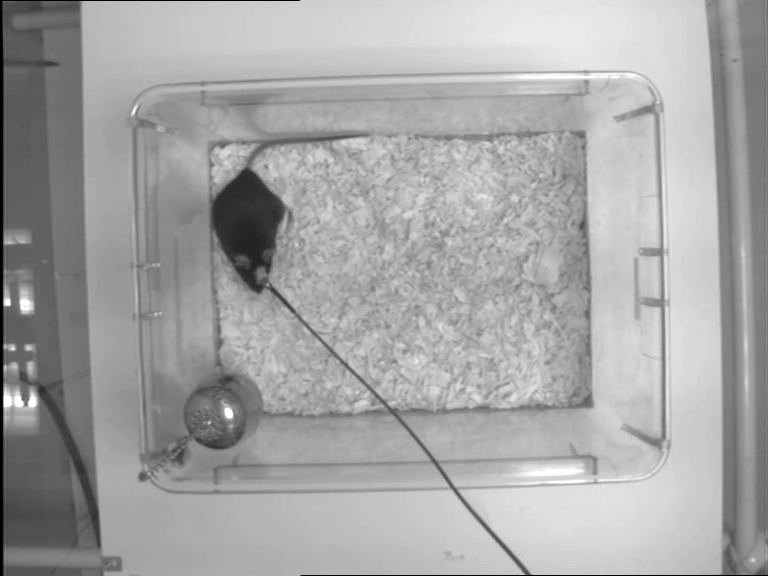mice: (207, 132, 372, 300)
